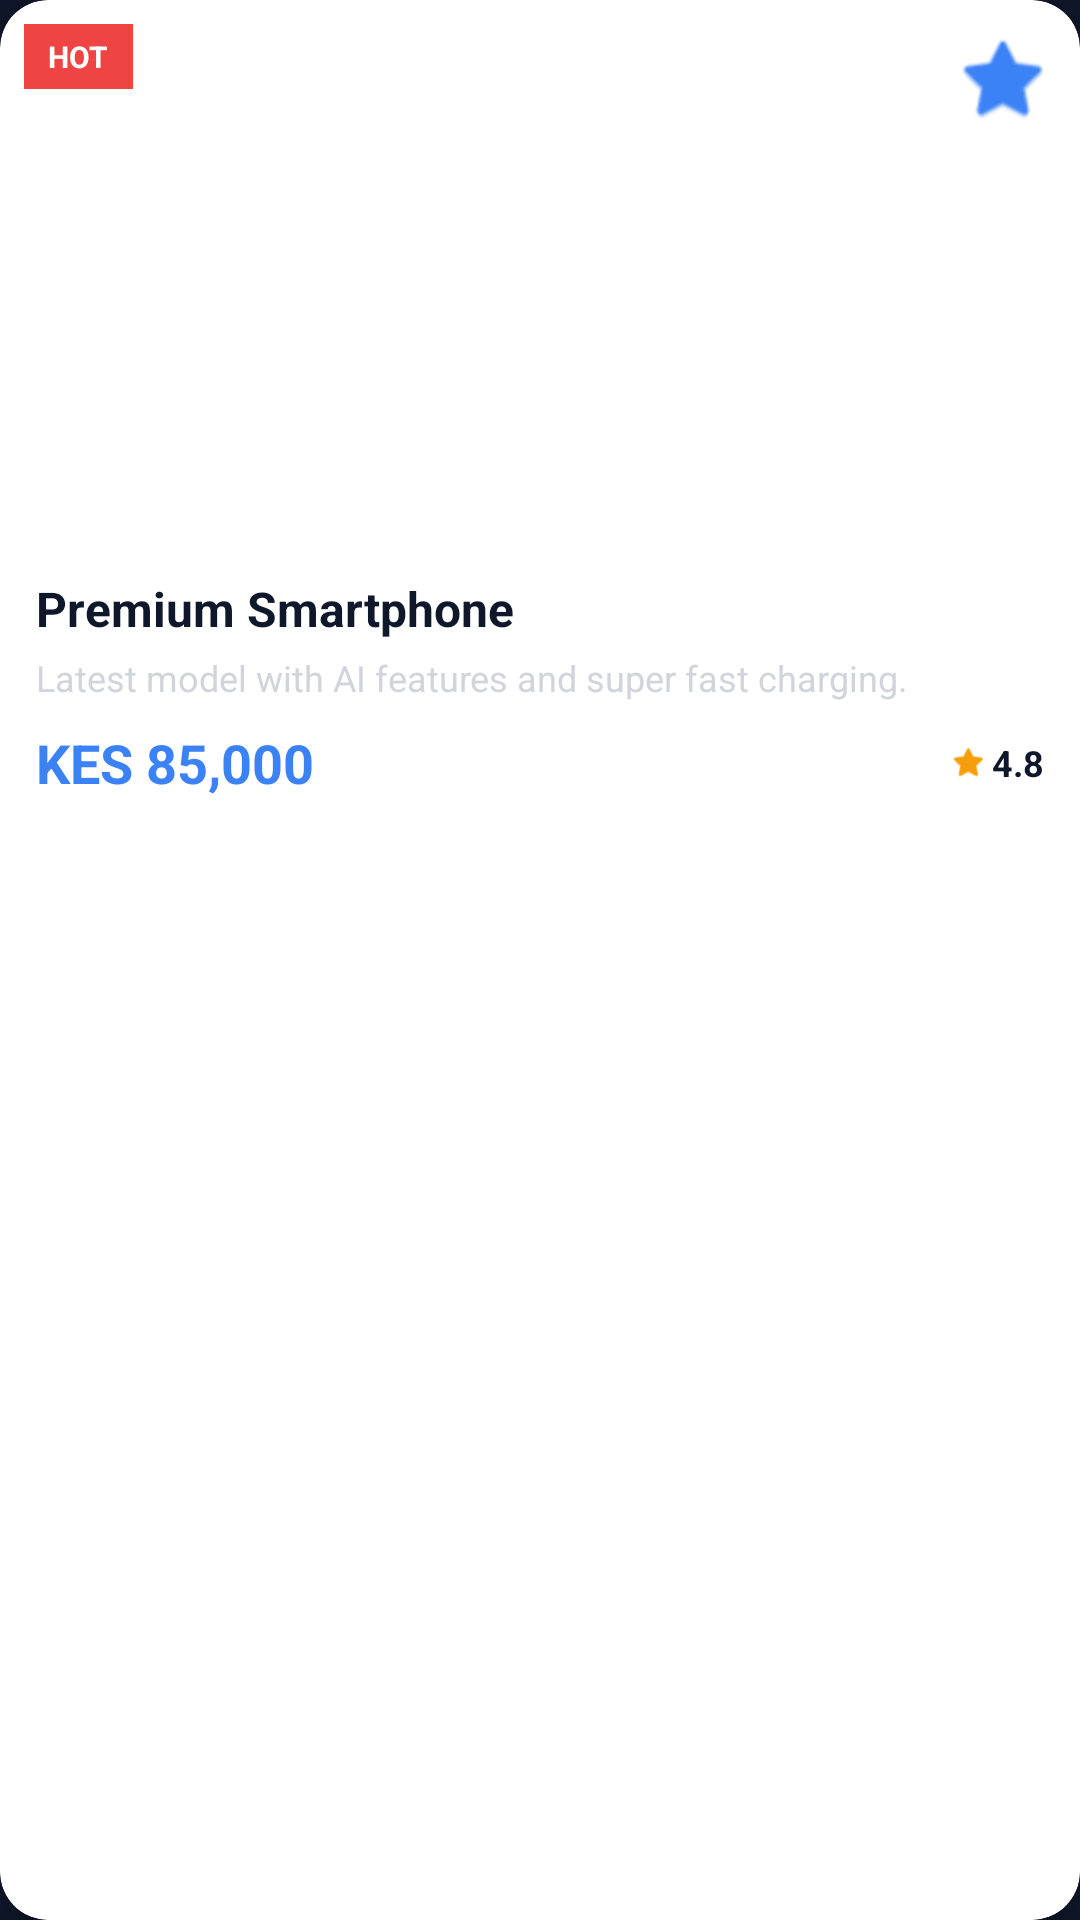

Where to tap for icons on this 1080*1920 app screen, as point (x, y):
Add to wishlist: point (1003, 79)
